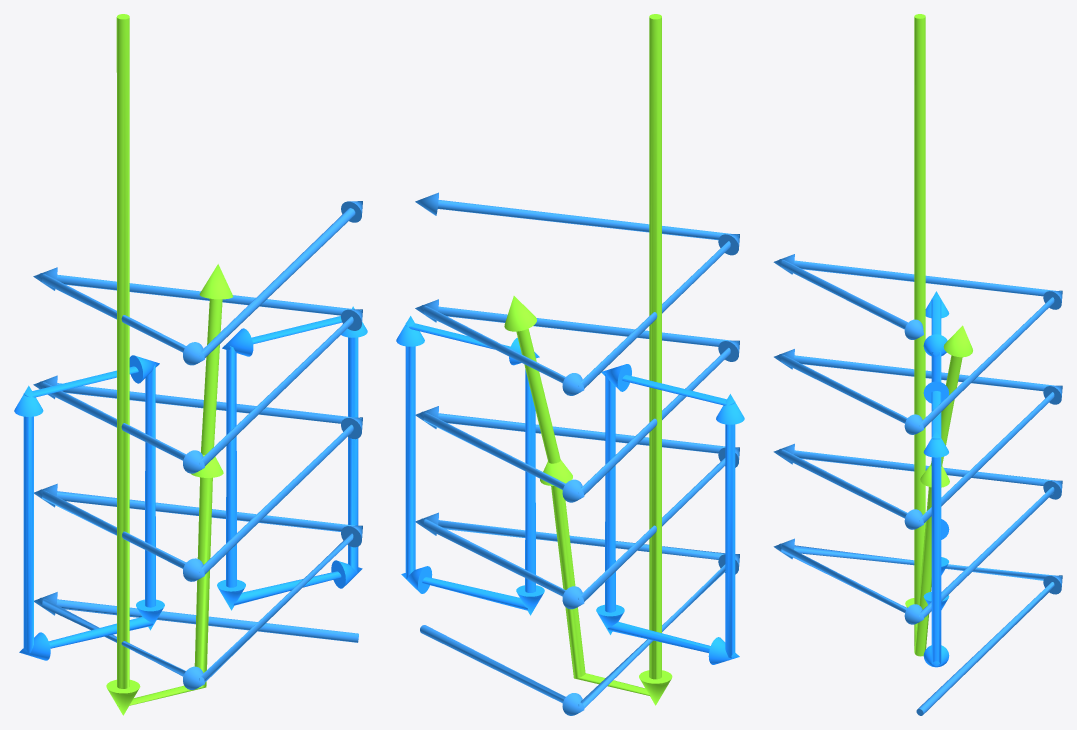
Rendered from pressure_reactor_flow.glb.
The picture shows the model from 3 angles, left to right: view 1: azimuth 30°, elevation 25°; view 2: azimuth 150°, elevation 25°; view 3: azimuth 270°, elevation 25°; orthographic projection. The views are drawn at different scales.
Parts seen in each view (by area): view 1: coolant, gas_feed, mixing_1, mixing_0; view 2: coolant, gas_feed, mixing_1, mixing_0; view 3: coolant, gas_feed, mixing_0, mixing_1.
Part boxes in pixels (box(x1,y1,x2,y2)): coolant: box(33, 201, 362, 689); gas_feed: box(106, 14, 233, 715); mixing_1: box(14, 355, 164, 660); mixing_0: box(217, 306, 367, 610); coolant: box(415, 192, 739, 715); gas_feed: box(504, 14, 672, 705); mixing_1: box(596, 364, 744, 664); mixing_0: box(396, 316, 544, 615); coolant: box(773, 254, 1062, 715); gas_feed: box(905, 14, 972, 656); mixing_0: box(923, 381, 949, 667); mixing_1: box(923, 291, 949, 575).
Size of the model in its own units: 0.4312 by 0.824 by 0.3526.
